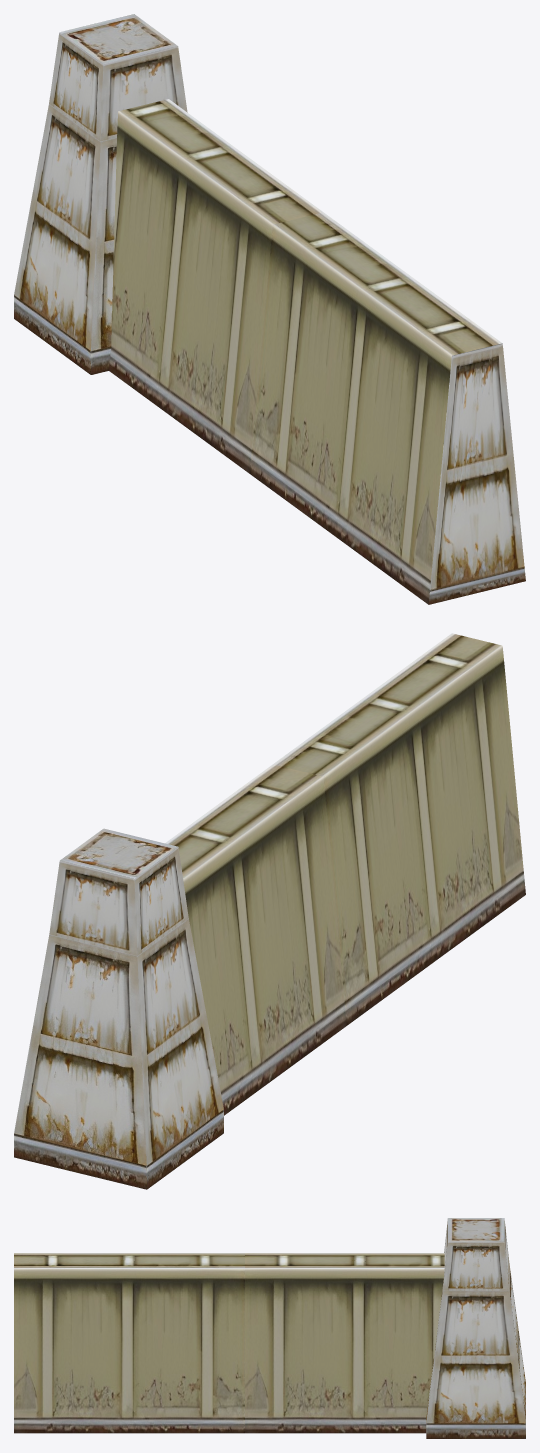
The model's file is d_mediumwall_hdtex.glb.
3 views of the same model, one above another, from view 1: azimuth 30°, elevation 25°; view 2: azimuth 150°, elevation 25°; view 3: azimuth 270°, elevation 25° (orthographic). The views are drawn at different scales.
Visible parts, largest first — view 1: D_MediumWall; view 2: D_MediumWall; view 3: D_MediumWall.
Part boxes in pixels (left/top/right/bottom): D_MediumWall: left=14, top=14, right=525, bottom=604; D_MediumWall: left=14, top=633, right=525, bottom=1189; D_MediumWall: left=14, top=1218, right=525, bottom=1438.
Bounding box in the file's own units: 5.48 × 11.5 × 28.37.
1 material, 1 textured.
